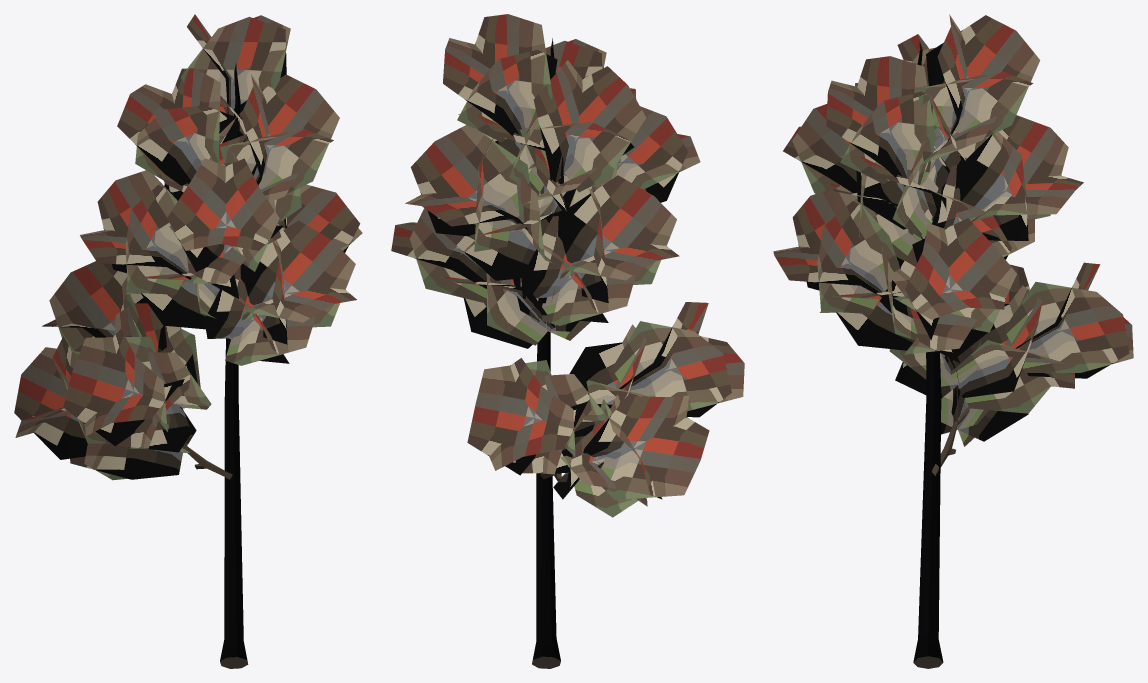
File: SM_Tree_Birch_04_LOD_01.fbx
3 renders of one model, left to right at view 1: azimuth 30°, elevation 25°; view 2: azimuth 150°, elevation 25°; view 3: azimuth 270°, elevation 25°, orthographic. The views are drawn at different scales.
Parts seen in each view (by area): view 1: SM_Tree_Birch_04_LOD_01; view 2: SM_Tree_Birch_04_LOD_01; view 3: SM_Tree_Birch_04_LOD_01.
Boxes of the visible parts, <box> form: SM_Tree_Birch_04_LOD_01: <box>14,14,362,668</box>; SM_Tree_Birch_04_LOD_01: <box>391,14,744,668</box>; SM_Tree_Birch_04_LOD_01: <box>773,14,1133,668</box>.
Size of the model in its own units: 252 by 489 by 246.
